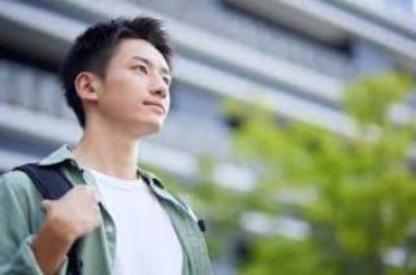person: (0, 10, 218, 275)
